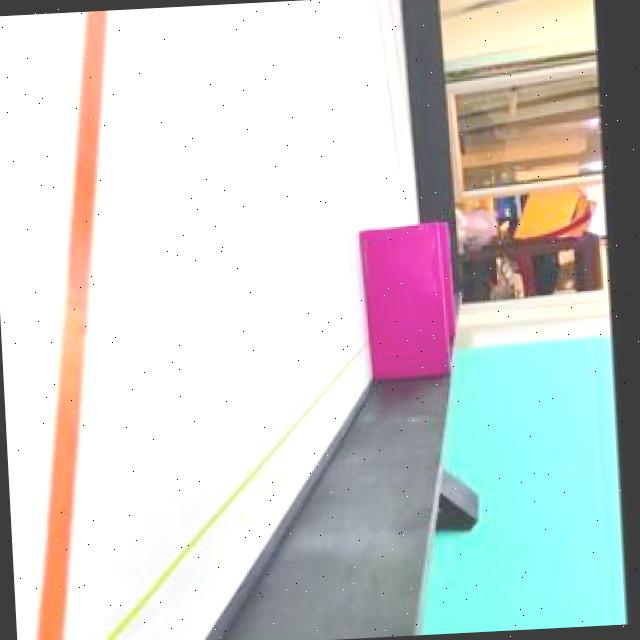xparking: (363, 228, 442, 374)
